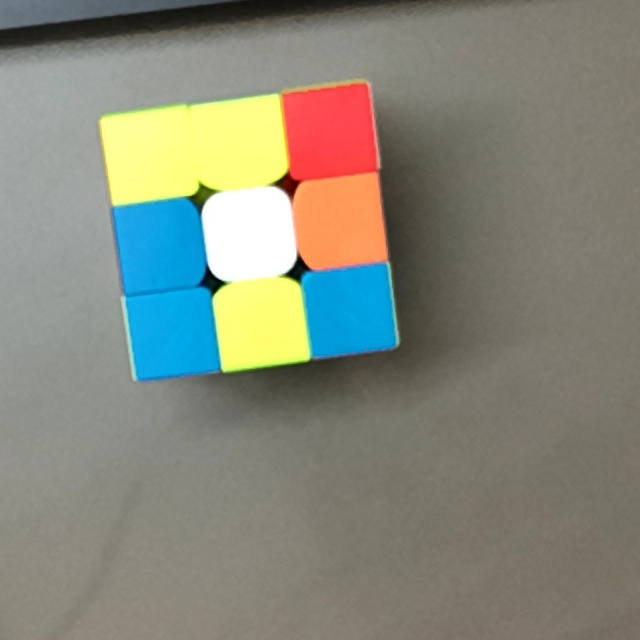tile: (110, 114, 186, 198), (288, 93, 366, 171), (213, 199, 286, 275), (202, 113, 282, 179), (308, 185, 377, 259), (121, 217, 195, 282), (317, 282, 386, 346), (222, 292, 291, 355), (139, 304, 209, 366)
